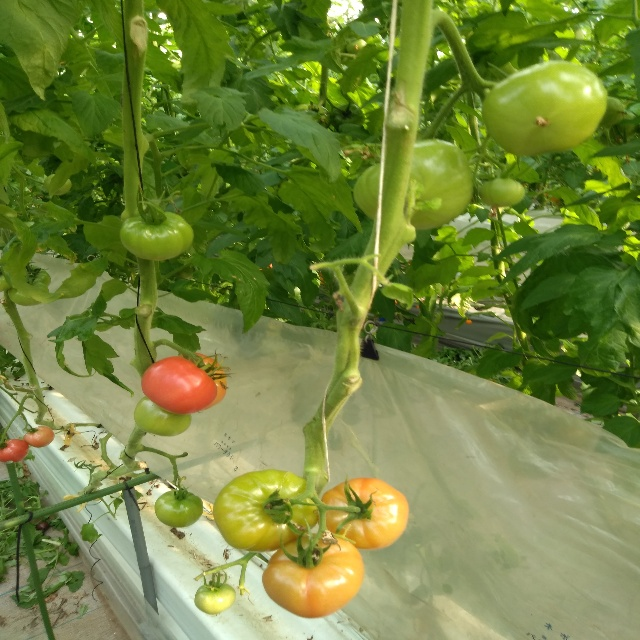b_fully_ripened: (142, 356, 218, 415), (0, 439, 29, 463)
b_green: (481, 60, 610, 156), (403, 139, 473, 230), (119, 211, 193, 262), (134, 396, 192, 436), (154, 490, 204, 527), (353, 163, 380, 223), (194, 582, 236, 615), (478, 179, 525, 208), (8, 279, 49, 306), (24, 264, 51, 288)
b_half_ripened: (213, 469, 321, 552), (262, 533, 364, 619), (317, 477, 408, 550), (179, 353, 227, 411), (23, 426, 54, 448)
